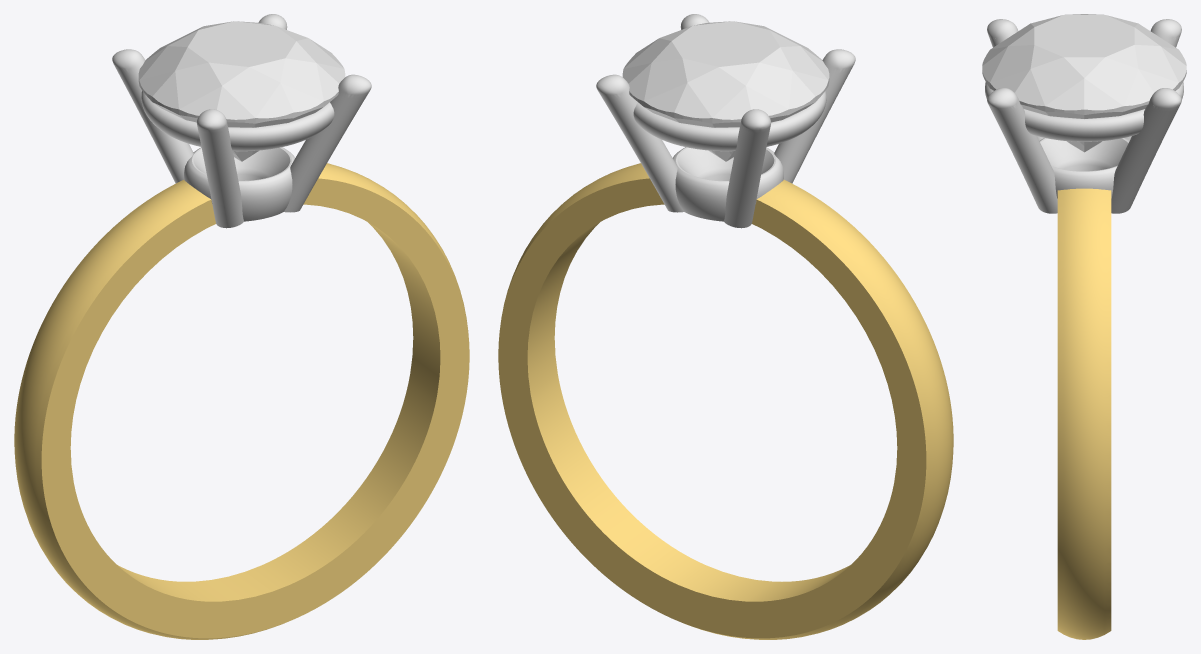
Rendered from MalloryPTheadeng_blender.glb.
The picture shows the model from 3 angles, left to right: view 1: azimuth 30°, elevation 25°; view 2: azimuth 150°, elevation 25°; view 3: azimuth 270°, elevation 25°; orthographic projection.
Parts seen in each view (by area): view 1: Mallory YG for 3d model, Mallory PT head for 3d model, Mallory dia for 3d model; view 2: Mallory YG for 3d model, Mallory PT head for 3d model, Mallory dia for 3d model; view 3: Mallory YG for 3d model, Mallory dia for 3d model, Mallory PT head for 3d model.
Part boxes in pixels (x1,y1,x2,y2): Mallory YG for 3d model: (14,163,469,639); Mallory PT head for 3d model: (112,14,371,228); Mallory dia for 3d model: (138,21,345,161); Mallory YG for 3d model: (498,163,953,639); Mallory PT head for 3d model: (596,14,855,228); Mallory dia for 3d model: (622,21,829,161); Mallory YG for 3d model: (1057,188,1111,639); Mallory dia for 3d model: (982,14,1186,152); Mallory PT head for 3d model: (985,19,1183,213).
Bounding box in the file's own units: 18.73 × 23.78 × 7.6.
